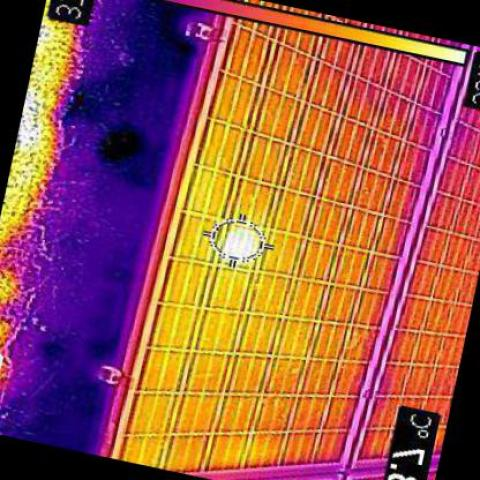fault: (230, 229, 253, 254)
